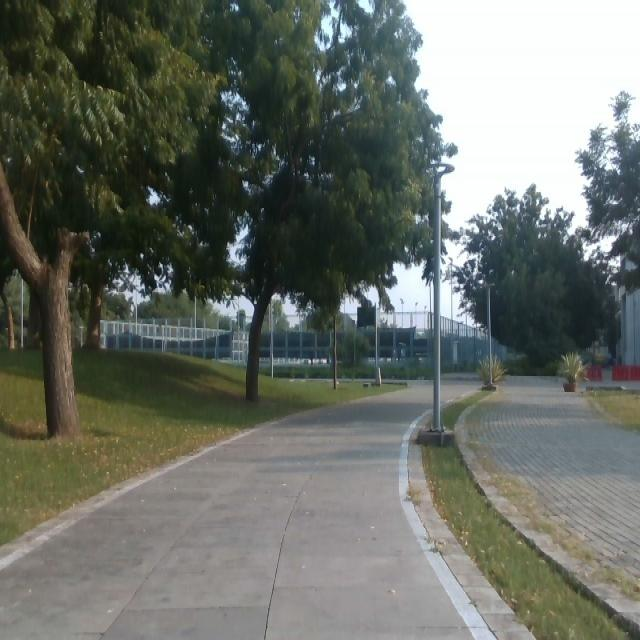lane: (0, 385, 481, 640)
